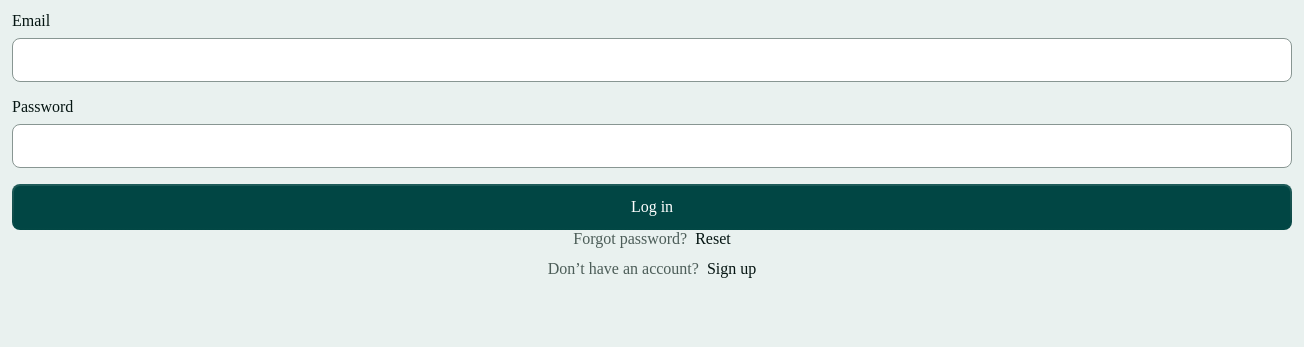
Test: Sign in flow › shows validation errors for invalid email input
Type "invalid email" into the field labelled "Email" at (652, 60), box [12,38,1292,82]
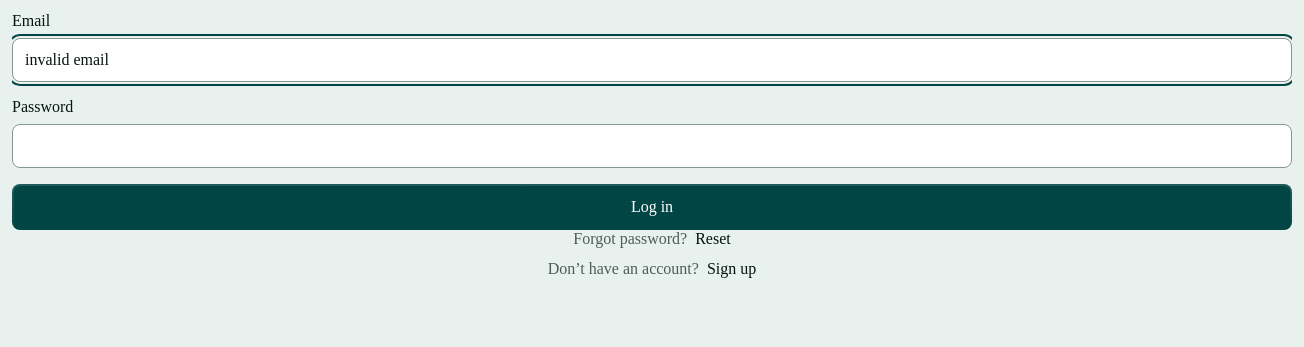
Click the button "Log in" at (652, 207), box [12,184,1292,230]
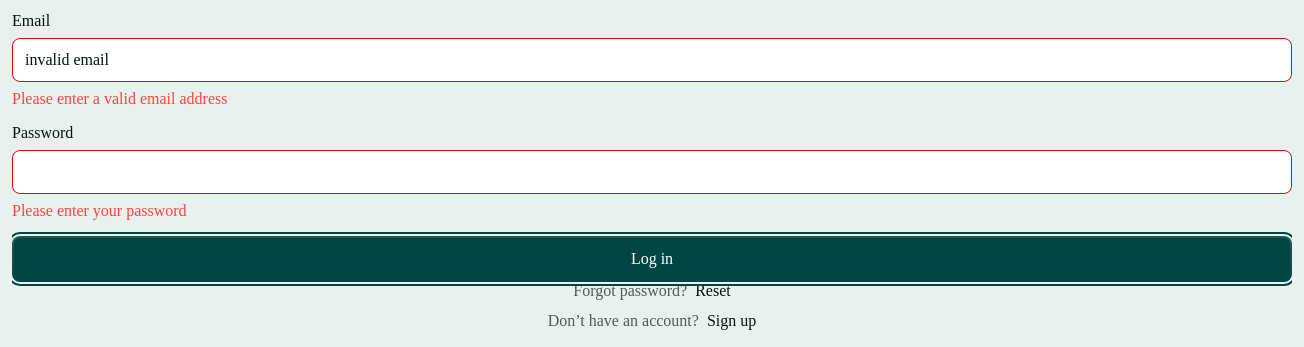
Check: the text "Please enter a valid email address" is shown, box [12,90,228,107]
